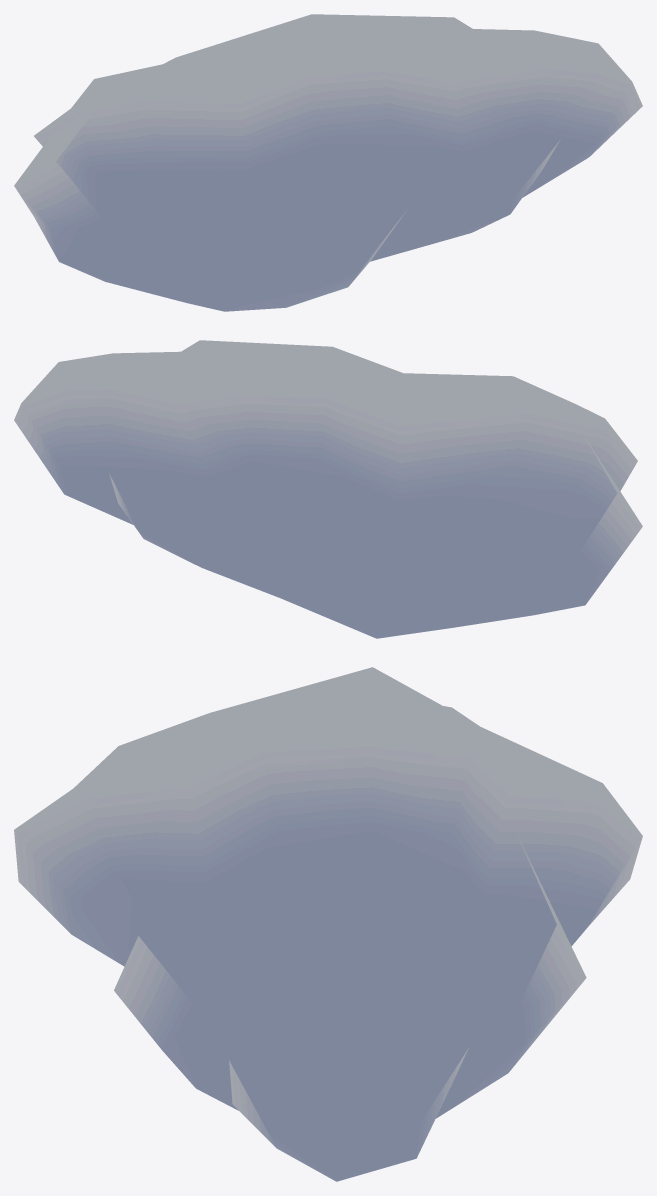
Rendered from 017c_Cloud.glb.
3 views of the same model, one above another, from view 1: azimuth 30°, elevation 25°; view 2: azimuth 150°, elevation 25°; view 3: azimuth 270°, elevation 25° (orthographic). The views are drawn at different scales.
Parts seen in each view (by area): view 1: part_0; view 2: part_0; view 3: part_0.
Part boxes in pixels (x1,y1,x2,y2): part_0: (14, 14, 642, 311); part_0: (14, 340, 642, 638); part_0: (14, 667, 642, 1181).
Bounding box in the file's own units: 214 × 71.09 × 145.
1 material, 1 textured.
